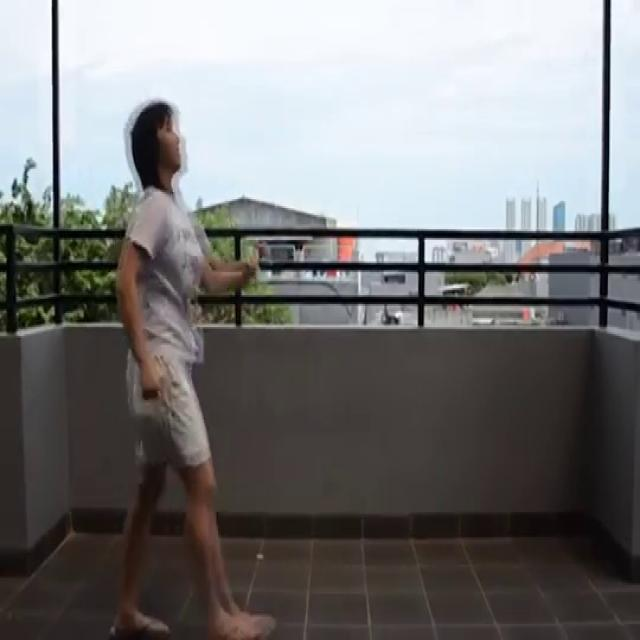normal: (118, 92, 284, 640)
